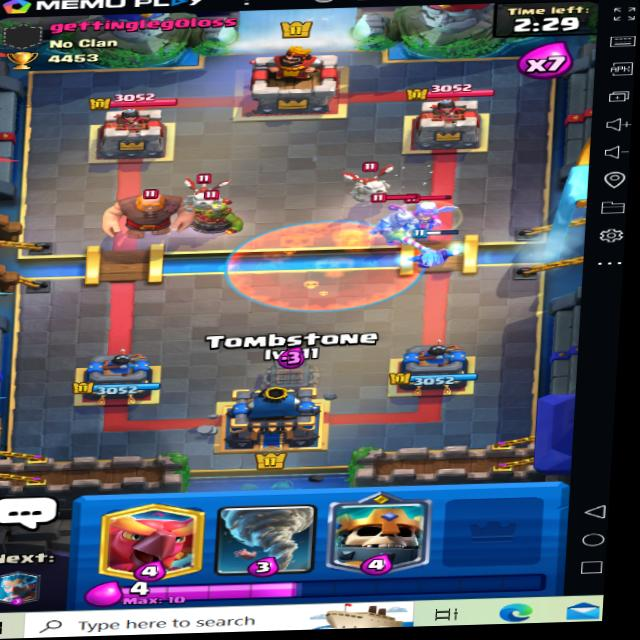battle-healer: (391, 191, 464, 237)
giant: (100, 183, 193, 241)
goblin-demolisher: (190, 191, 252, 238)
prince: (363, 194, 427, 249)
skeleton-dragon: (179, 172, 242, 213), (343, 164, 401, 200)
